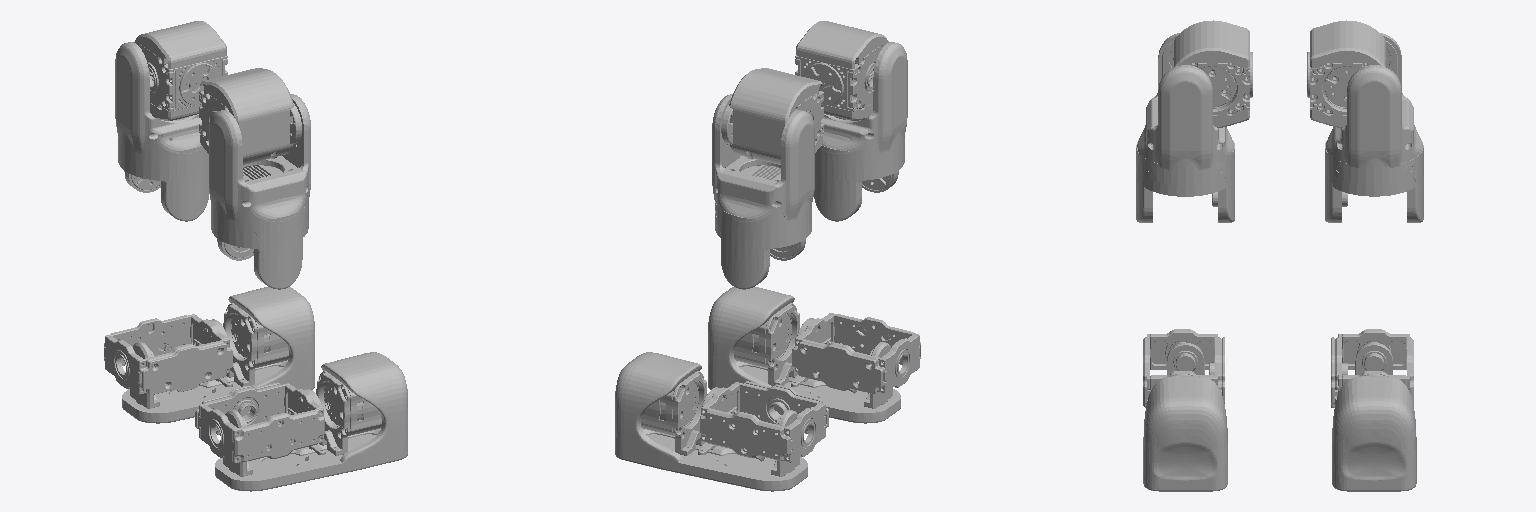
URDF robot description (pi):
<?xml version="1.0" encoding="utf-8"?>
<robot name="pi">
	<mujoco>
		<compiler meshdir="../meshes/" balanceinertia="true" discardvisual="false" />
	</mujoco>

	  <!-- [CAUTION] uncomment when convert to mujoco -->
  <!-- <link name="world"></link>
  <joint name="floating_base_joint" type="floating">
    <parent link="world" />
    <child link="base_link" />
  </joint> -->

	<link name="base_link">
		<inertial>
			<origin xyz="0.00071885 0.00002781 0.02370205" rpy="0 0 0" />
			<mass value="1.94350955" />
			<inertia ixx="0.01047683" ixy=" -0.00000234" ixz="0.00001204" iyy="0.01089441" iyz=" -0.00000484" izz="0.00389882" />
		</inertial>
		<visual>
			<origin xyz="0 0 0" rpy="0 0 0" />
			<geometry>
				<!-- <box size="0.1 0.1 0.1" /> -->
				<mesh filename="./meshes/baselink_1.STL" />
			</geometry>
			<material name="">
				<color rgba="1 1 1 1" />
			</material>
		</visual>
		<collision>
			<origin xyz="0 0 0.08" rpy="0 0 0" />
			<geometry>
				<box size="0.17 0.15 0.15" />
				<!-- <mesh filename="./meshes/base_link.STL" /> -->
			</geometry>
		</collision>
	</link>

<!-- left leg -->
	<link name="l_hip_pitch_link">
		<inertial>
			<origin xyz=" 0.00136864  0.03062518  0.00027130" rpy="0 0 0" />
			<mass value="0.39857633" />
			<inertia ixx=" 0.00010390" ixy="-0.00000206" ixz=" 0.00000007" iyy=" 0.00009707" iyz="-0.00000082" izz="0.00012422" />
		</inertial>
		<visual>
			<origin xyz="0 0 0" rpy="0 0 0" />
			<geometry>
				<mesh filename="./meshes/l_hip_pitch_link.STL" />
			</geometry>
			<material name="">
				<color rgba="0.75294 0.75294 0.75294 1" />
			</material>
		</visual>
		<collision>
			<origin xyz="0 0.06 0" rpy="0 0 0" />
			<geometry>
				<box size="0.05 0.05 0.05" />
				<!-- <mesh filename="./meshes/r_hip_pitch_link.STL" /> -->
			</geometry>
		</collision>
	</link>
	<joint name="07_l_hip_pitch_joint" type="revolute">
		<origin xyz="-5.1979E-05 0.0233 -0.033" rpy="0 0 0" />
		<parent link="base_link" />
		<child link="l_hip_pitch_link" />
		<axis xyz="0 1 0" />
		<limit lower="-1.5" upper="1.5" effort="20" velocity="5.45" />
		<dynamics damping="0.1" friction="0.0"/> <!-- 即使很小的阻尼也能极大改善稳定性 -->
	</joint>
	<link name="l_hip_roll_link">
		<inertial>
			<origin xyz="0.00098441 0.00013641 -0.06124949" rpy="0 0 0" />
			<mass value="0.48571832" />
			<inertia ixx=" 0.00048327" ixy="-0.00000044" ixz=" -0.00002100" iyy="0.00057415" iyz="0.00000082" izz="0.00022189" />
		</inertial>
		<visual>
			<origin xyz="0 0 0" rpy="0 0 0" />
			<geometry>
				<mesh filename="./meshes/l_hip_roll_link.STL" />
			</geometry>
			<material name="">
				<color rgba="0.75294 0.75294 0.75294 1" />
			</material>
		</visual>
		<collision>
			<origin xyz="0 0 0" rpy="0 0 0" />
			<geometry>
				<box size="0.001 0.001 0.001" />
				<!-- <mesh filename="./meshes/l_hip_roll_link.STL" /> -->
			</geometry>
		</collision>
	</link>
	<joint name="08_l_hip_roll_joint" type="revolute">
		<origin xyz="0 0.0568 0" rpy="0 0 0" />
		<parent link="l_hip_pitch_link" />
		<child link="l_hip_roll_link" />
		<axis xyz="1 0 0" />
		<limit lower="-0.38" upper="1.2" effort="20" velocity="5.45" />
		<dynamics damping="0.1" friction="0.0"/> <!-- 即使很小的阻尼也能极大改善稳定性 -->
	</joint>
	<link name="l_thigh_link">
		<inertial>
			<origin xyz="0.00000000 -0.00095496 -0.02368467" rpy="0 0 0" />
			<mass value=" 0.10937966" />
			<inertia ixx="0.00011979" ixy="0.00000000" ixz="0.00000000" iyy="0.00005743" iyz=" -0.00000427" izz="0.00009007" />
		</inertial>
		<visual>
			<origin xyz="0 0 0" rpy="0 0 0" />
			<geometry>
				<mesh filename="./meshes/l_thigh_link.STL" />
			</geometry>
			<material name="">
				<color rgba="0.75294 0.75294 0.75294 1" />
			</material>
		</visual>
		<collision>
			<origin xyz="0 0 0" rpy="0 0 0" />
			<geometry>
				<box size="0.001 0.001 0.001" />
				<!-- <mesh filename="./meshes/l_thigh_link.STL" /> -->
			</geometry>
		</collision>
	</link>
	<joint name="09_l_thigh_joint" type="revolute">
		<origin xyz="0 0 -0.06925" rpy="0 0 0" />
		<parent link="l_hip_roll_link" />
		<child link="l_thigh_link" />
		<axis xyz="0 0 1" />
		<limit lower="-1" upper="1" effort="20" velocity="5.45" />
		<dynamics damping="0.1" friction="0.0"/> <!-- 即使很小的阻尼也能极大改善稳定性 -->
	</joint>
	<link name="l_calf_link">
		<inertial>
			<origin xyz=" -0.00001362 0.00276237 -0.07005569" rpy="0 0 0" />
			<mass value="0.80286993" />
			<inertia ixx="0.00372685" ixy="-0.00000004" ixz=" -0.00001493" iyy="0.00371467" iyz="-0.00000110" izz="0.00018398" />
		</inertial>
		<visual>
			<origin xyz="0 0 0" rpy="0 0 0" />
			<geometry>
				<mesh filename="./meshes/l_calf_link.STL" />
			</geometry>
			<material name="">
				<color rgba="0.75294 0.75294 0.75294 1" />
			</material>
		</visual>
		<collision>
			<origin xyz="0 0 0" rpy="0 0 0" />
			<geometry>
				<box size="0.001 0.001 0.001" />
				<!-- <mesh filename="./meshes/l_calf_link.STL" /> -->
			</geometry>
		</collision>
	</link>
	<joint name="10_l_calf_joint" type="revolute">
		<origin xyz="0 0 -0.07025" rpy="0 0 0" />
		<parent link="l_thigh_link" />
		<child link="l_calf_link" />
		<axis xyz="0 1 0" />
		<limit lower="0" upper="2.2" effort="20" velocity="5.45" />
		<dynamics damping="0.1" friction="0.0"/> <!-- 即使很小的阻尼也能极大改善稳定性 -->
	</joint>
	<link name="l_ankle_pitch_link">
		<inertial>
			<origin xyz="0.00655369 -0.00218609 0.00001446" rpy="0 0 0" />
			<mass value=" 0.16558271" />
			<inertia ixx="0.00012024" ixy="-0.00000237" ixz="-0.00000008" iyy="0.00018462" iyz="0.00000000" izz="0.00027198" />
		</inertial>
		<visual>
			<origin xyz="0 0 0" rpy="0 0 0" />
			<geometry>
				<mesh filename="./meshes/l_ankle_pitch_link.STL" />
			</geometry>
			<material name="">
				<color rgba="0.75294 0.75294 0.75294 1" />
			</material>
		</visual>
		<collision>
			<origin xyz="0 0 0" rpy="0 0 0" />
			<geometry>
				<box size="0.07 0.065 0.045" />
				<!-- <mesh filename="./meshes/l_ankle_pitch_link.STL" /> -->
			</geometry>
		</collision>
	</link>
	<joint name="11_l_ankle_pitch_joint" type="revolute">
		<origin xyz="0 0 -0.14" rpy="0 0 0" />
		<parent link="l_calf_link" />
		<child link="l_ankle_pitch_link" />
		<axis xyz="0 1 0" />
		<limit lower="-0.8" upper="0.8" effort="20" velocity="5.45" />
		<dynamics damping="0.1" friction="0.0"/> <!-- 即使很小的阻尼也能极大改善稳定性 -->
	</joint>
	<link name="l_ankle_roll_link">
		<inertial>
			<origin xyz="0.00265784 0.00017568 -0.01266639" rpy="0 0 0" />
			<mass value="0.62234851" />
			<inertia ixx="0.00046403" ixy=" -0.00000236" ixz="-0.0002309" iyy="0.0014685" iyz=" -0.00000082" izz="0.0012907" />
		</inertial>
		<visual>
			<origin xyz="0 0 0" rpy="0 0 0" />
			<geometry>
				<mesh filename="./meshes/l_ankle_roll_link.STL" />
			</geometry>
			<material name="">
				<color rgba="0.75294 0.75294 0.75294 1" />
			</material>
		</visual>
		<collision>
			<origin xyz="0.036 -0.036 -0.0479" rpy="0 0 1.5708" />
			<geometry>
				<!-- <box size="0.17 0.07 0.008" /> -->
				<mesh filename="./meshes/foot.STL" scale="0.001 0.001 0.001"/>
			</geometry>
		</collision>
	</link>
	<joint name="12_l_ankle_roll_joint" type="revolute">
		<origin xyz="0.07525 0 0" rpy="0 0 0" />
		<parent link="l_ankle_pitch_link" />
		<child link="l_ankle_roll_link" />
		<axis xyz="1 0 0" />
		<limit lower="-0.6" upper="0.6" effort="20" velocity="5.45" />
		<dynamics damping="0.1" friction="0.0"/> <!-- 即使很小的阻尼也能极大改善稳定性 -->
	</joint>

<!-- right leg -->
	<link name="r_hip_pitch_link">
		<inertial>
			<origin xyz="0.00136979  -0.03116717 0.00027130" rpy="0 0 0" />
			<mass value=" 0.39857633" />
			<inertia ixx="0.00010524" ixy="0.00000180" ixz=" 0.00000007" iyy="0.00009707" iyz="-0.00000032" izz=" 0.00012556" />
		</inertial>
		<visual>
			<origin xyz="0 0 0" rpy="0 0 0" />
			<geometry>
				<mesh filename="./meshes/r_hip_pitch_link.STL" />
			</geometry>
			<material name="">
				<color rgba="0.75294 0.75294 0.75294 1" />
			</material>
		</visual>
		<collision>
			<origin xyz="0 -0.06 0" rpy="0 0 0" />
			<geometry>
				<box size="0.05 0.05 0.05" />
				<!-- <mesh filename="./meshes/r_hip_pitch_link.STL" /> -->
			</geometry>
		</collision>
	</link>
	<joint name="01_r_hip_pitch_joint" type="revolute">
		<origin xyz="-5.1979E-05 -0.0233 -0.033" rpy="0 0 0" />
		<parent link="base_link" />
		<child link="r_hip_pitch_link" />
		<axis xyz="0 1 0" />
		<limit lower="-1.5" upper="1.5" effort="20" velocity="5.45" />
		<dynamics damping="0.1" friction="0.0"/> <!-- 即使很小的阻尼也能极大改善稳定性 -->
	</joint>
	<link name="r_hip_roll_link">
		<inertial>
			<origin xyz=" 0.00098441 -0.03394577  -0.06124949" rpy="0 0 0" />
			<mass value="0.48571832" />
			<inertia ixx="0.00048327" ixy="-0.00000049" ixz="-0.00002100" iyy=" 0.00057415" iyz="-0.00000047" izz=" 0.00022190" />
		</inertial>
		<visual>
			<origin xyz="0 0 0" rpy="0 0 0" />
			<geometry>
				<mesh filename="./meshes/r_hip_roll_link.STL" />
			</geometry>
			<material name="">
				<color rgba="0.75294 0.75294 0.75294 1" />
			</material>
		</visual>
		<collision>
			<origin xyz="0 0 0" rpy="0 0 0" />
			<geometry>
				<box size="0.001 0.001 0.001" />
				<!-- <mesh filename="./meshes/r_hip_roll_link.STL" /> -->
			</geometry>
		</collision>
	</link>
	<joint name="02_r_hip_roll_joint" type="revolute">
		<origin xyz="0.00025 -0.0568 0" rpy="0 0 0" />
		<parent link="r_hip_pitch_link" />
		<child link="r_hip_roll_link" />
		<axis xyz="1 0 0" />
		<limit lower="-0.38" upper="1.2" effort="20" velocity="5.45" />
		<dynamics damping="0.1" friction="0.0"/> <!-- 即使很小的阻尼也能极大改善稳定性 -->
	</joint>
	<link name="r_thigh_link">
		<inertial>
			<origin xyz="0 0.00116854 -0.04755896" rpy="0 0 0" />
			<mass value="0.10937966" />
			<inertia ixx="0.00011940" ixy="0.00000000" ixz="0.00000000" iyy=" 0.00005743" iyz="0.00000410" izz=" 0.00008969" />
		</inertial>
		<visual>
			<origin xyz="0 0 0" rpy="0 0 0" />
			<geometry>
				<mesh filename="./meshes/r_thigh_link.STL" />
			</geometry>
			<material name="">
				<color rgba="0.75294 0.75294 0.75294 1" />
			</material>
		</visual>
		<collision>
			<origin xyz="0 0 0" rpy="0 0 0" />
			<geometry>
				<box size="0.001 0.001 0.001" />
				<!-- <mesh filename="./meshes/r_thigh_link.STL" /> -->
			</geometry>
		</collision>
	</link>
	<joint name="03_r_thigh_joint" type="revolute">
		<origin xyz="-0.00025 0 -0.06925" rpy="0 0 0" />
		<parent link="r_hip_roll_link" />
		<child link="r_thigh_link" />
		<axis xyz="0 0 1" />
		<limit lower="-1" upper="1" effort="20" velocity="5.45" />
		<dynamics damping="0.1" friction="0.0"/> <!-- 即使很小的阻尼也能极大改善稳定性 -->
	</joint>
	<link name="r_calf_link">
		<inertial>
			<origin xyz="-0.00001362 -0.00276237 -0.07005569" rpy="0 0 0" />
			<mass value="0.80286993" />
			<inertia ixx="0.00372685" ixy="0.00000004" ixz="0.00001494" iyy="0.00371467" iyz=" 0.00000110" izz="0.00018398" />
		</inertial>
		<visual>
			<origin xyz="0 0 0" rpy="0 0 0" />
			<geometry>
				<mesh filename="./meshes/r_calf_link.STL" />
			</geometry>
			<material name="">
				<color rgba="0.75294 0.75294 0.75294 1" />
			</material>
		</visual>
		<collision>
			<origin xyz="0 0 0" rpy="0 0 0" />
			<geometry>
				<box size="0.001 0.001 0.001" />
				<!-- <mesh filename="./meshes/r_calf_link.STL" /> -->
			</geometry>
		</collision>
	</link>
	<joint name="04_r_calf_joint" type="revolute">
		<origin xyz="0 -0.0027 -0.07025" rpy="0 0 0" />
		<parent link="r_thigh_link" />
		<child link="r_calf_link" />
		<axis xyz="0 1 0" />
		<limit lower="0" upper="2.2" effort="20" velocity="5.45" />
		<dynamics damping="0.1" friction="0.0"/> <!-- 即使很小的阻尼也能极大改善稳定性 -->
	</joint>
	<link name="r_ankle_pitch_link">
		<inertial>
			<origin xyz="0.00655369 0.00218609 -0.00001446" rpy="0 0 0" />
			<mass value="0.16558271" />
			<inertia ixx="0.00012024" ixy=" 0.00000237" ixz=" 0.00000008" iyy="0.00018462" iyz="0.00000000" izz="0.00027198" />
		</inertial>
		<visual>
			<origin xyz="0 0 0" rpy="0 0 0" />
			<geometry>
				<mesh filename="./meshes/r_ankle_pitch_link.STL" />
			</geometry>
			<material name="">
				<color rgba="0.75294 0.75294 0.75294 1" />
			</material>
		</visual>
		<collision>
			<origin xyz="0 0 0" rpy="0 0 0" />
			<geometry>
				<box size="0.07 0.065 0.045" />
				<!-- <mesh filename="./meshes/r_ankle_pitch_link.STL" /> -->
			</geometry>
		</collision>
	</link>
	<joint name="05_r_ankle_pitch_joint" type="revolute">
		<origin xyz="0 0 -0.14" rpy="0 0 0" />
		<parent link="r_calf_link" />
		<child link="r_ankle_pitch_link" />
		<axis xyz="0 1 0" />
		<limit lower="-0.8" upper="0.8" effort="20" velocity="5.45" />
		<dynamics damping="0.1" friction="0.0"/> <!-- 即使很小的阻尼也能极大改善稳定性 -->
	</joint>
	<link name="r_ankle_roll_link">
		<inertial>
			<origin xyz="0.00265784 0.00017568 -0.01266639" rpy="0 0 0" />
			<mass value="0.62234851" />
			<inertia ixx="0.00046403" ixy=" -0.00000236" ixz="-0.0002309" iyy="0.0014685" iyz=" -0.00000082" izz="0.0012907" />
		</inertial>
		<visual>
			<origin xyz="0 0 0" rpy="0 0 0" />
			<geometry>
				<mesh filename="./meshes/r_ankle_roll_link.STL" />
			</geometry>
			<material name="">
				<color rgba="0.75294 0.75294 0.75294 1" />
			</material>
		</visual>
		<collision>
			<origin xyz="0.036 -0.036 -0.0479" rpy="0 0 1.5708" />
			<geometry>
				<!-- <box size="0.17 0.07 0.008" /> -->
				<mesh filename="./meshes/foot.STL" scale="0.001 0.001 0.001"/>
			</geometry>
		</collision>
	</link>
	<joint name="06_r_ankle_roll_joint" type="revolute">
		<origin xyz="0.07525 0.0027 0" rpy="0 0 0" />
		<parent link="r_ankle_pitch_link" />
		<child link="r_ankle_roll_link" />
		<axis xyz="1 0 0" />
		<limit lower="-0.6" upper="0.6" effort="20" velocity="5.45" />
		<dynamics damping="0.1" friction="0.0"/> <!-- 即使很小的阻尼也能极大改善稳定性 -->
	</joint>
</robot>

--- What the picture shows (computed from the rendered views, not written in the file) ---
3 views of the same robot in one strip: view 1: azimuth 30°, elevation 25°; view 2: azimuth 150°, elevation 25°; view 3: azimuth 270°, elevation 25° (orthographic).
Model pi with 13 links and 12 joints (12 revolute), rooted at base_link, posed all joints at 0.
Visible links, largest first — view 1: r_ankle_roll_link, l_ankle_roll_link, r_hip_roll_link, r_ankle_pitch_link, l_ankle_pitch_link, l_hip_roll_link, l_hip_pitch_link, r_hip_pitch_link, r_thigh_link, l_thigh_link; view 2: l_ankle_roll_link, r_ankle_roll_link, l_hip_roll_link, r_ankle_pitch_link, l_ankle_pitch_link, r_hip_roll_link, r_hip_pitch_link, l_hip_pitch_link, l_thigh_link, r_thigh_link; view 3: l_ankle_roll_link, r_ankle_roll_link, r_hip_roll_link, l_hip_roll_link, r_hip_pitch_link, l_hip_pitch_link, l_thigh_link, l_ankle_pitch_link, r_ankle_pitch_link, r_thigh_link.
Boxes of the visible links, bbox=[...] form: r_ankle_roll_link: bbox=[215, 352, 407, 491]; l_ankle_roll_link: bbox=[122, 287, 314, 423]; r_hip_roll_link: bbox=[209, 94, 310, 248]; r_ankle_pitch_link: bbox=[195, 382, 324, 463]; l_ankle_pitch_link: bbox=[104, 314, 232, 394]; l_hip_roll_link: bbox=[115, 42, 203, 180]; l_hip_pitch_link: bbox=[134, 21, 227, 120]; r_hip_pitch_link: bbox=[199, 68, 293, 164]; r_thigh_link: bbox=[217, 204, 308, 289]; l_thigh_link: bbox=[124, 138, 208, 221]; l_ankle_roll_link: bbox=[615, 352, 807, 491]; r_ankle_roll_link: bbox=[708, 287, 900, 423]; l_hip_roll_link: bbox=[712, 94, 814, 248]; r_ankle_pitch_link: bbox=[792, 313, 920, 393]; l_ankle_pitch_link: bbox=[700, 381, 828, 462]; r_hip_roll_link: bbox=[819, 42, 907, 180]; r_hip_pitch_link: bbox=[795, 21, 888, 120]; l_hip_pitch_link: bbox=[729, 68, 823, 164]; l_thigh_link: bbox=[715, 202, 805, 289]; r_thigh_link: bbox=[814, 138, 898, 221]; l_ankle_roll_link: bbox=[1332, 343, 1416, 491]; r_ankle_roll_link: bbox=[1143, 343, 1227, 491]; r_hip_roll_link: bbox=[1136, 33, 1234, 196]; l_hip_roll_link: bbox=[1325, 33, 1423, 196]; r_hip_pitch_link: bbox=[1174, 20, 1252, 127]; l_hip_pitch_link: bbox=[1307, 20, 1385, 127]; l_thigh_link: bbox=[1325, 127, 1423, 222]; l_ankle_pitch_link: bbox=[1331, 329, 1413, 407]; r_ankle_pitch_link: bbox=[1143, 329, 1224, 407]; r_thigh_link: bbox=[1136, 127, 1234, 222].
Size in the robot's own frame: 0.1808 by 0.2442 by 0.3675 metres.
Meshes: 13 distinct files referenced, 10 mesh visuals loaded (10 binary STL); not drawn: 3 (reference not matched to a file when rendering).
